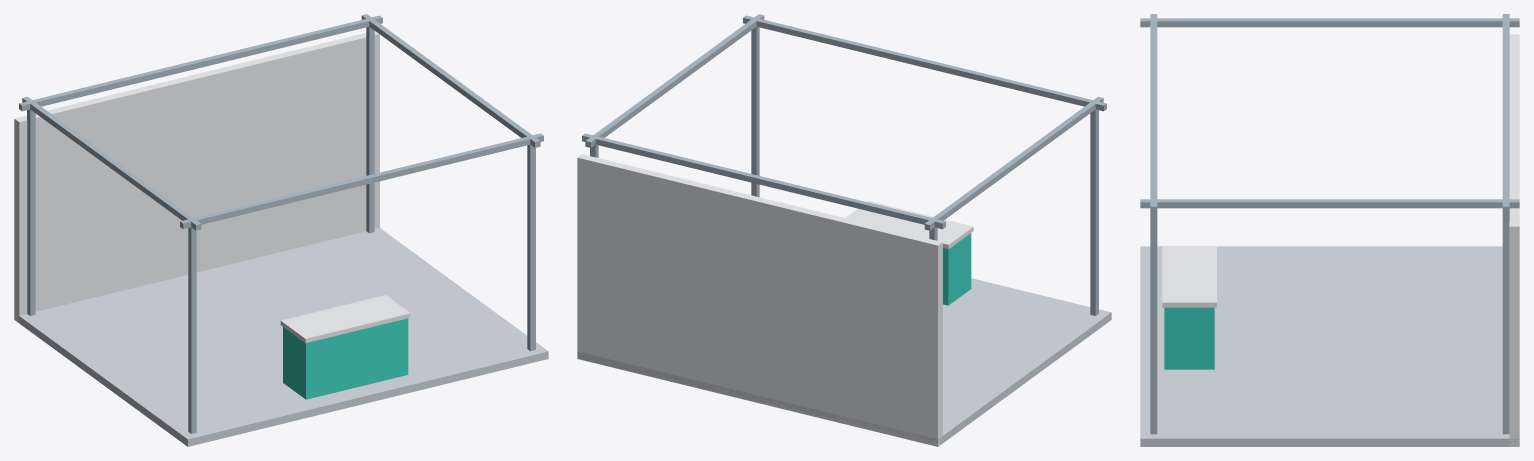
3 renders of one model, left to right at view 1: azimuth 30°, elevation 25°; view 2: azimuth 150°, elevation 25°; view 3: azimuth 270°, elevation 25°, orthographic. The views are drawn at different scales.
Visible parts, largest first — view 1: Exhibition Booth Concept; view 2: Exhibition Booth Concept; view 3: Exhibition Booth Concept.
Boxes of the visible parts, bbox=[...] form: Exhibition Booth Concept: bbox=[14, 14, 548, 446]; Exhibition Booth Concept: bbox=[577, 14, 1111, 446]; Exhibition Booth Concept: bbox=[1140, 14, 1519, 446].
Size of the model in its own units: 6 by 3.49 by 5.
